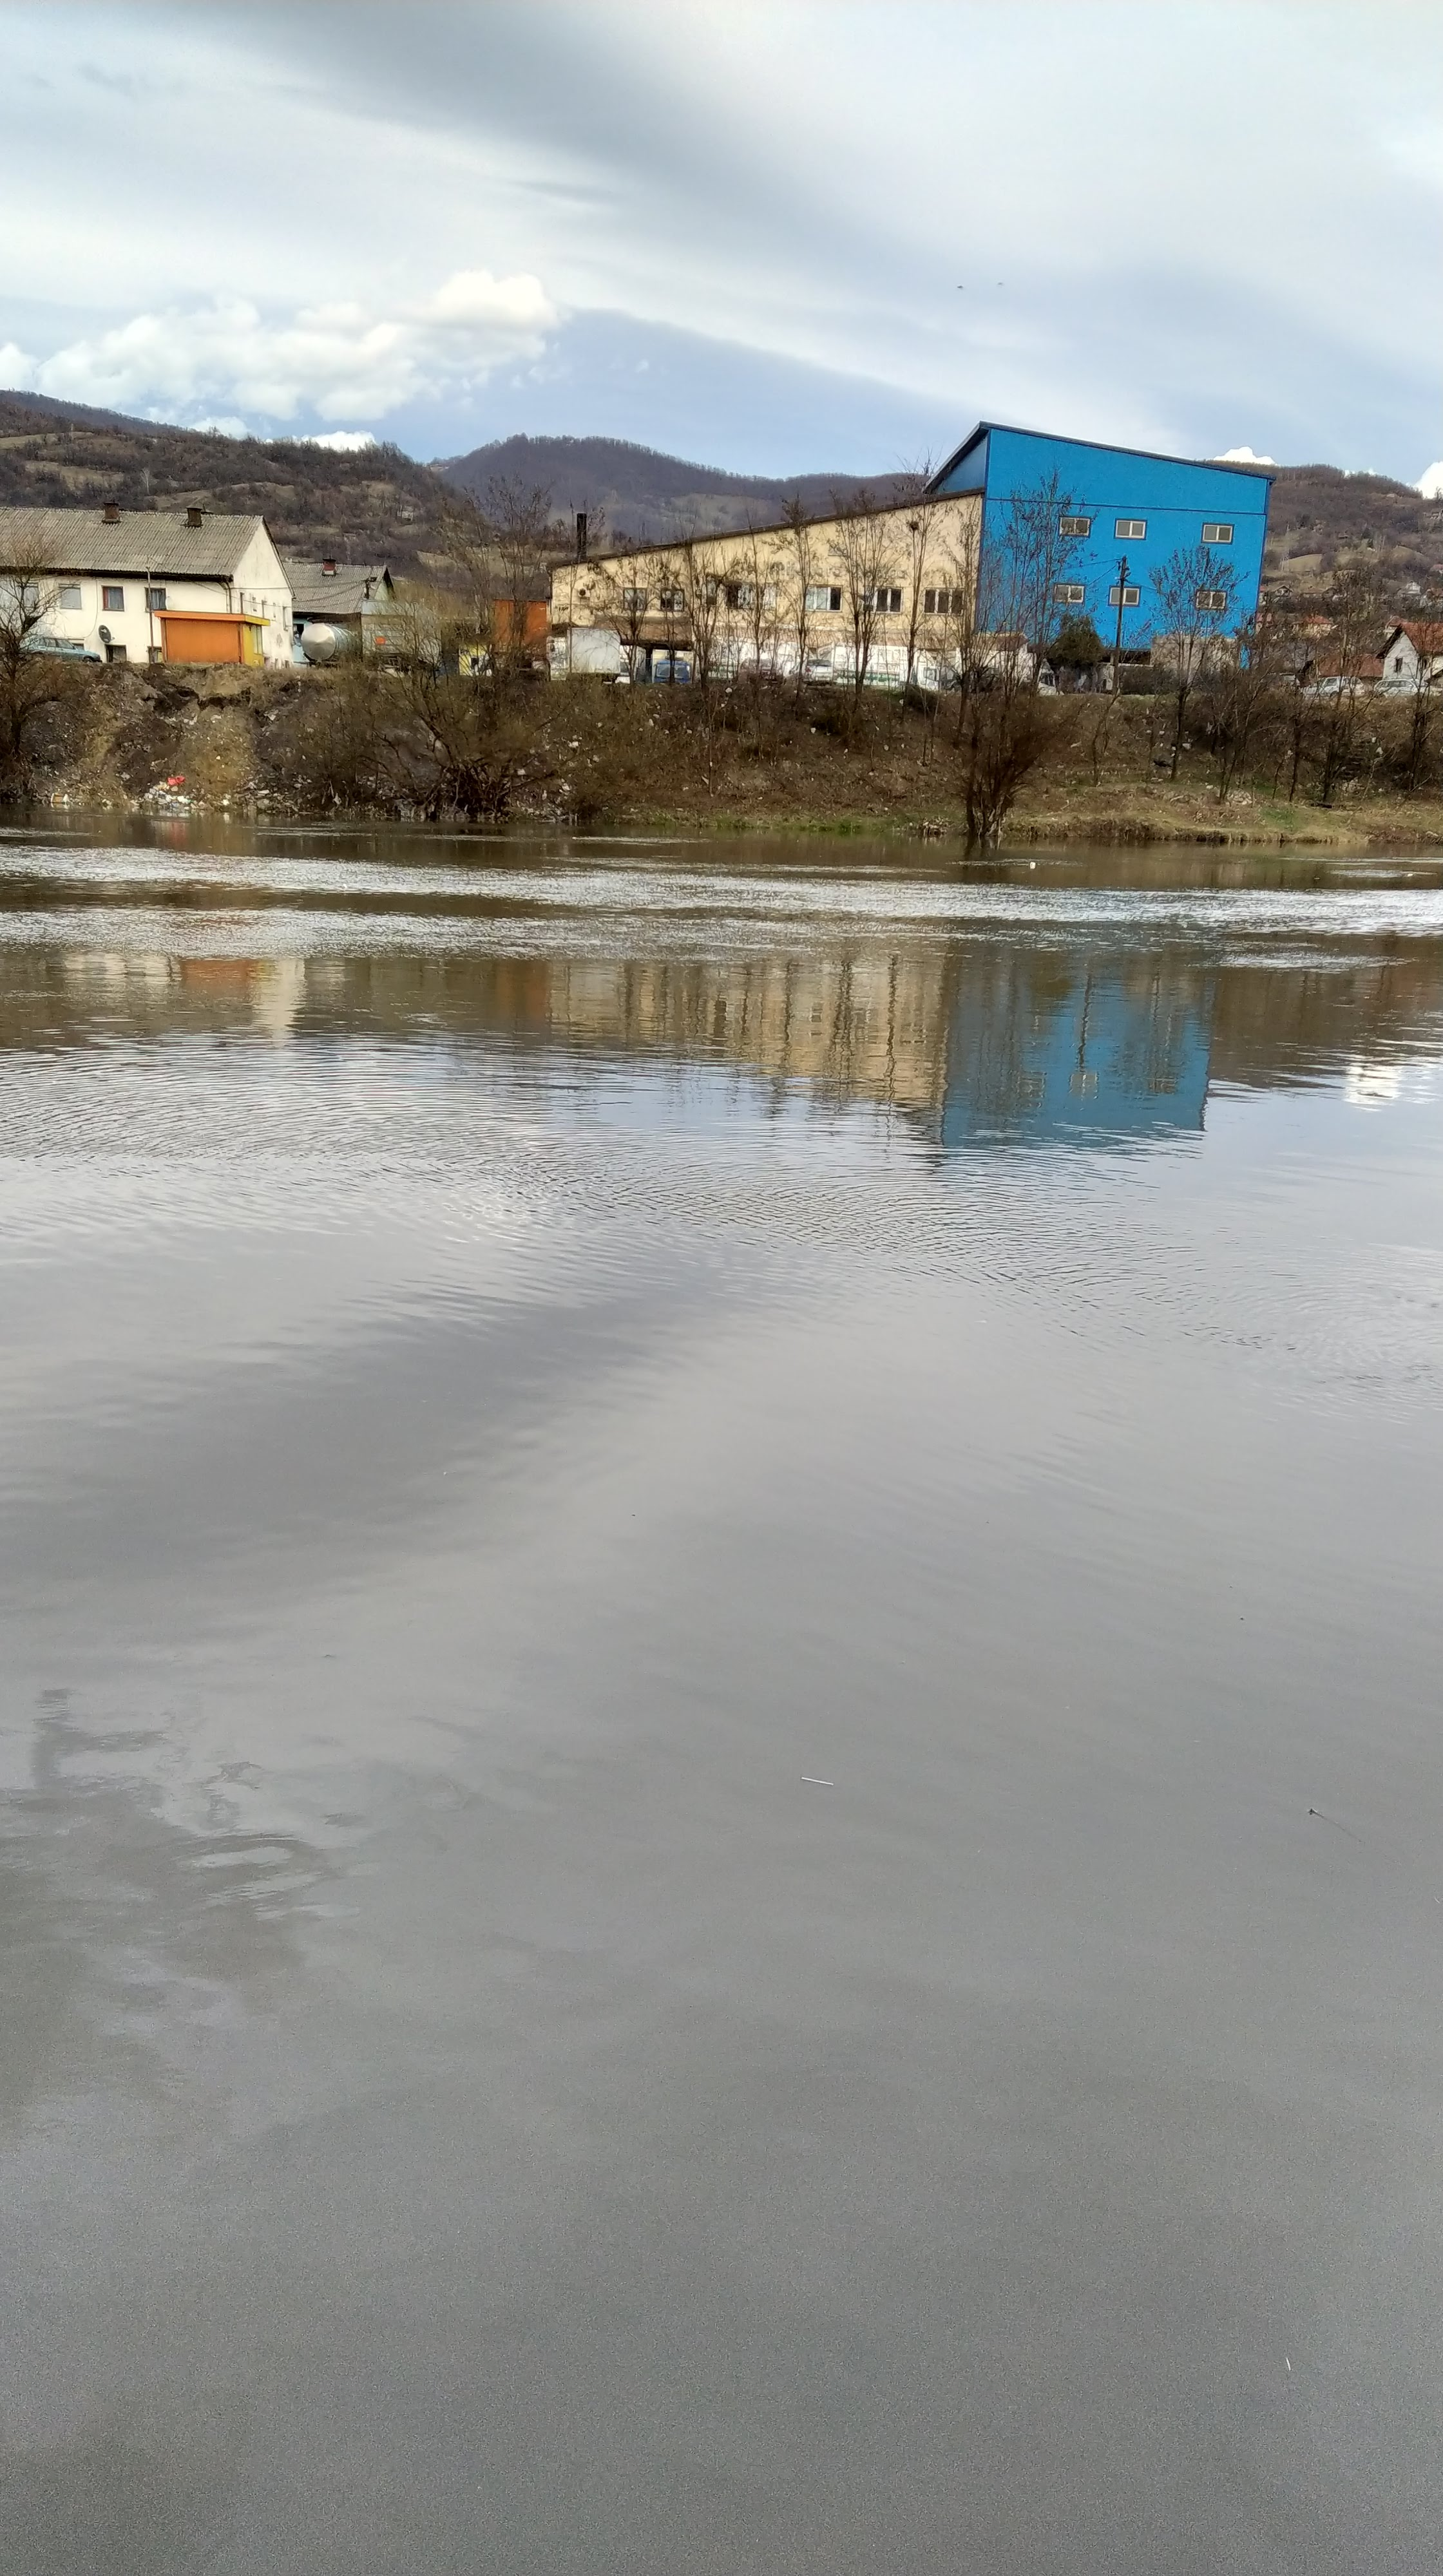Plastic Bottle: (1029, 863, 1036, 869)
